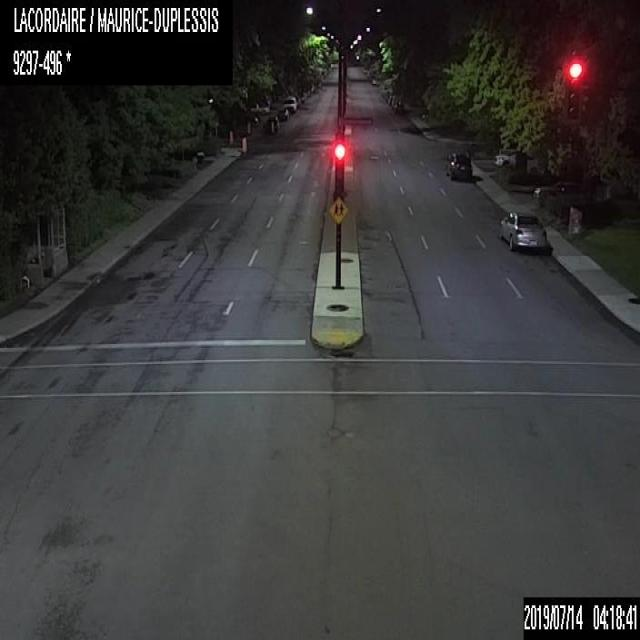construction: (240, 137, 246, 152), (228, 129, 234, 144), (246, 122, 250, 134)
vehicle: (497, 209, 548, 251), (532, 178, 584, 206), (493, 150, 538, 172), (443, 148, 472, 181), (168, 141, 204, 163), (249, 102, 269, 114), (264, 115, 278, 132), (283, 94, 295, 113), (392, 96, 404, 114), (275, 106, 288, 120), (244, 111, 257, 124)
